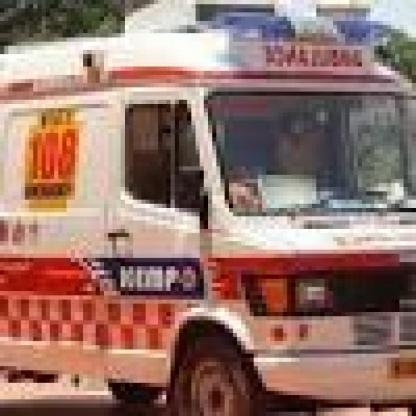priority: (0, 2, 416, 416)
